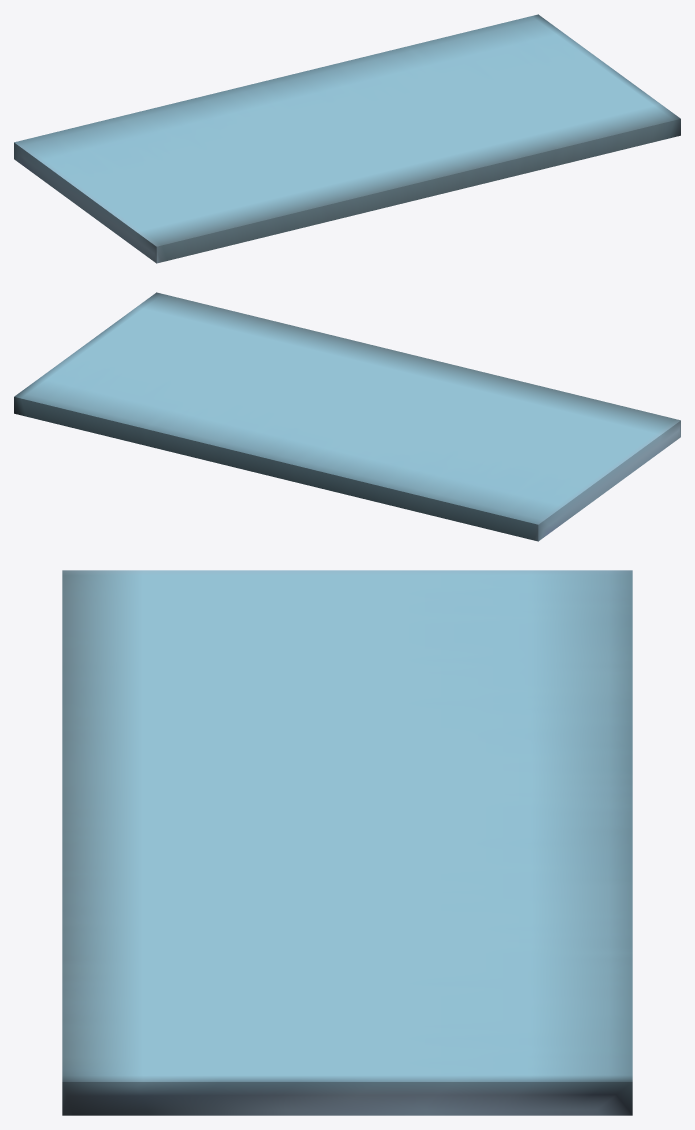
File: SciFi_Conf_Room_Ceiling.FBX
3 renders of one model, top to bottom at view 1: azimuth 30°, elevation 25°; view 2: azimuth 150°, elevation 25°; view 3: azimuth 270°, elevation 25°, orthographic. The views are drawn at different scales.
Visible parts, largest first — view 1: SciFi_Conf_Room_Ceiling; view 2: SciFi_Conf_Room_Ceiling; view 3: SciFi_Conf_Room_Ceiling.
Part boxes in pixels (left/top/right/bottom): SciFi_Conf_Room_Ceiling: left=14, top=14, right=680, bottom=263; SciFi_Conf_Room_Ceiling: left=14, top=292, right=680, bottom=541; SciFi_Conf_Room_Ceiling: left=62, top=570, right=632, bottom=1115.
Size of the model in its own units: 11367 by 494 by 5354.
Materials: 2 (1 with a texture image).
